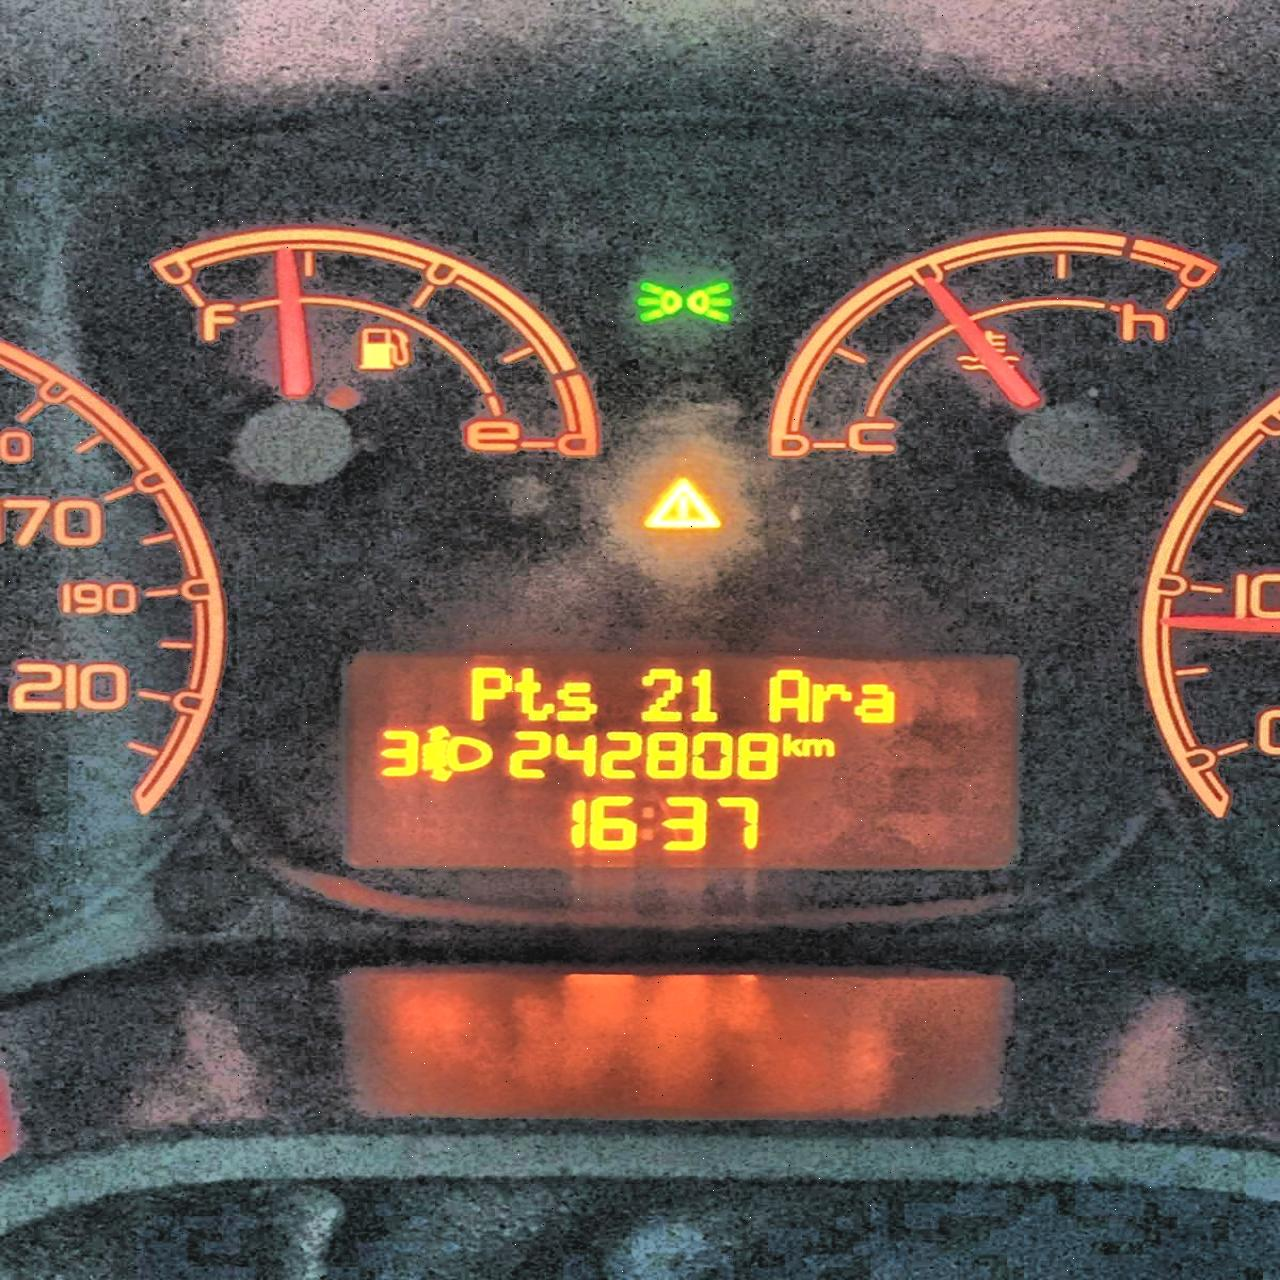0: (693, 724, 733, 782)
1: (688, 667, 719, 723), (568, 794, 587, 851)
2: (639, 666, 685, 724), (600, 727, 641, 779), (509, 730, 550, 779)
3: (661, 791, 704, 855), (381, 724, 417, 778)
4: (553, 728, 598, 778)
6: (590, 795, 635, 851)
7: (715, 792, 761, 853)
8: (645, 729, 688, 779), (736, 729, 775, 782)
X: (764, 665, 810, 721), (516, 662, 556, 721), (471, 665, 511, 720), (853, 681, 900, 727), (559, 676, 604, 722), (810, 680, 851, 722), (635, 798, 659, 843), (799, 737, 835, 758), (779, 731, 802, 756)
odometer: (332, 645, 1028, 885)
